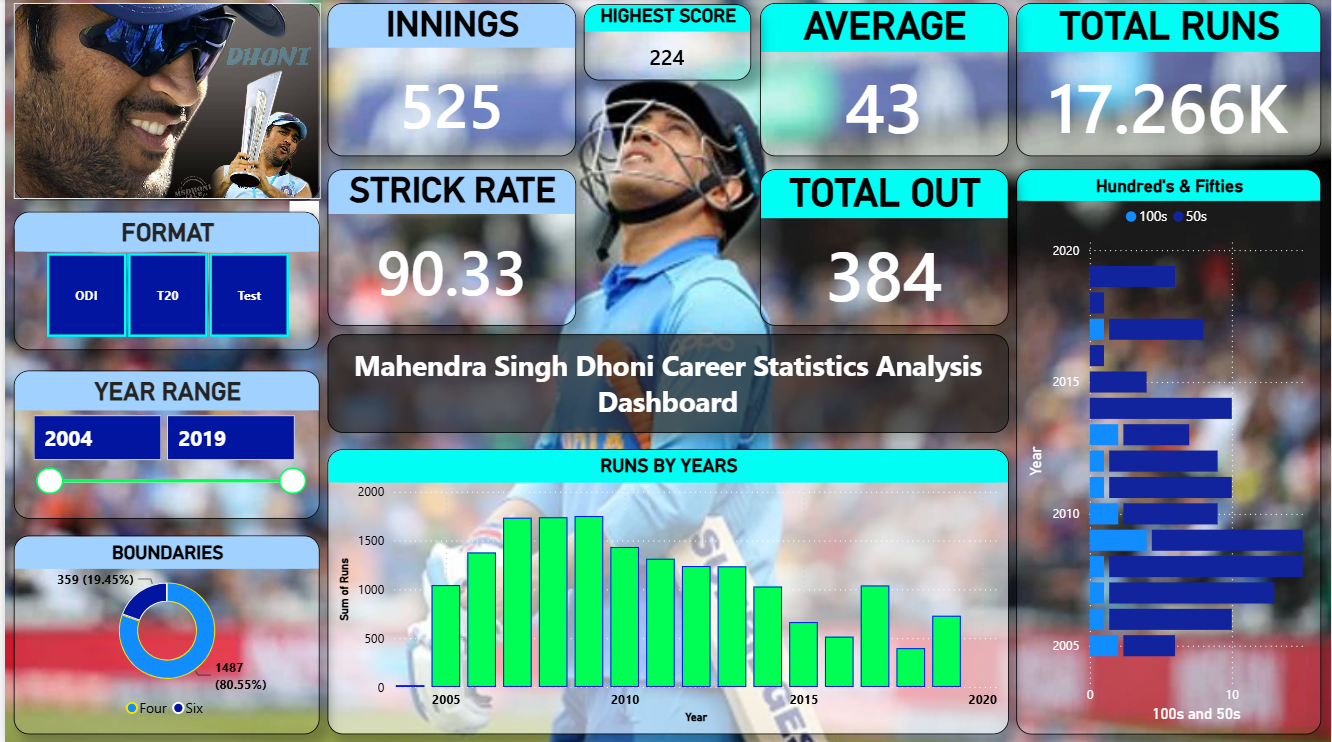

The dashboard page shown, as its layout file describes it:
{"tool":"powerbi","page":{"name":"Page 1","canvas":[1280,720],"ordinal":0},"visuals":[{"type":"image","box":[8.6,4.3,295.7,190],"z":0},{"type":"textbox","box":[311.3,324.5,657.5,95.3],"z":1000},{"type":"cardVisual","title":"INNINGS","fields":{"Data":["Sum(Sheet1 (2).Innings)"]},"box":[311.3,4.8,240.1,148.4],"z":2000},{"type":"cardVisual","title":"TOTAL RUNS","fields":{"Data":["Sum(Sheet1 (2).Runs)"]},"box":[976,4.8,294.4,148.4],"z":3000},{"type":"cardVisual","title":"AVERAGE","fields":{"Data":["Avg(Sheet1 (2).Avg)"]},"box":[728.7,4.8,240.1,148.4],"z":4000},{"type":"cardVisual","title":"STRICK RATE","fields":{"Data":["Avg(Sheet1 (2).Strick Rate)"]},"box":[311.3,165.3,240.1,150.8],"z":5000},{"type":"slicer","title":"FORMAT","fields":{"Values":["Sheet1 (2).Format"]},"box":[8.4,206.3,295.6,133.9],"z":6000},{"type":"slicer","title":"YEAR RANGE","fields":{"Values":["Sheet1 (2).Year"]},"box":[8.4,359.5,295.6,143.6],"z":7000},{"type":"clusteredColumnChart","title":"RUNS BY YEARS","fields":{"Category":["Sheet1 (2).Year"],"Y":["Sum(Sheet1 (2).Runs)"]},"box":[311.3,435.5,657.5,275.1],"z":8000},{"type":"donutChart","title":"BOUNDARIES","fields":{"Y":["Sum(Sheet1 (2).4s)","Sum(Sheet1 (2).6s)"]},"box":[8.4,518.8,295.6,191.8],"z":9000},{"type":"barChart","title":"Hundred''s & Fifties","fields":{"Category":["Sheet1 (2).Year"],"Y":["Sum(Sheet1 (2).100)","Sum(Sheet1 (2).50)"]},"box":[976,165.3,294.4,545.3],"z":10000},{"type":"cardVisual","title":"TOTAL OUT","fields":{"Data":["Sum(Sheet1 (2).Outs)"]},"box":[728.7,165.3,240.1,150.8],"z":11000},{"type":"cardVisual","title":"HIGHEST SCORE","fields":{"Data":["Max(Sheet1 (2).Highest Score)"]},"box":[558.6,6,161.7,73.6],"z":12000}]}

Visuals, with their boxes in screenshot pixels (x1, y1, x2, y2), scaled from the page's 1280x720 canvas onto the 1332x742 screenshot:
image: pyautogui.locateOnScreen(9, 4, 317, 200)
textbox: pyautogui.locateOnScreen(324, 334, 1008, 433)
"INNINGS" cardVisual: pyautogui.locateOnScreen(324, 5, 574, 158)
"TOTAL RUNS" cardVisual: pyautogui.locateOnScreen(1016, 5, 1322, 158)
"AVERAGE" cardVisual: pyautogui.locateOnScreen(758, 5, 1008, 158)
"STRICK RATE" cardVisual: pyautogui.locateOnScreen(324, 170, 574, 326)
"FORMAT" slicer: pyautogui.locateOnScreen(9, 213, 316, 351)
"YEAR RANGE" slicer: pyautogui.locateOnScreen(9, 370, 316, 518)
"RUNS BY YEARS" clusteredColumnChart: pyautogui.locateOnScreen(324, 449, 1008, 732)
"BOUNDARIES" donutChart: pyautogui.locateOnScreen(9, 535, 316, 732)
"Hundred''s & Fifties" barChart: pyautogui.locateOnScreen(1016, 170, 1322, 732)
"TOTAL OUT" cardVisual: pyautogui.locateOnScreen(758, 170, 1008, 326)
"HIGHEST SCORE" cardVisual: pyautogui.locateOnScreen(581, 6, 750, 82)
